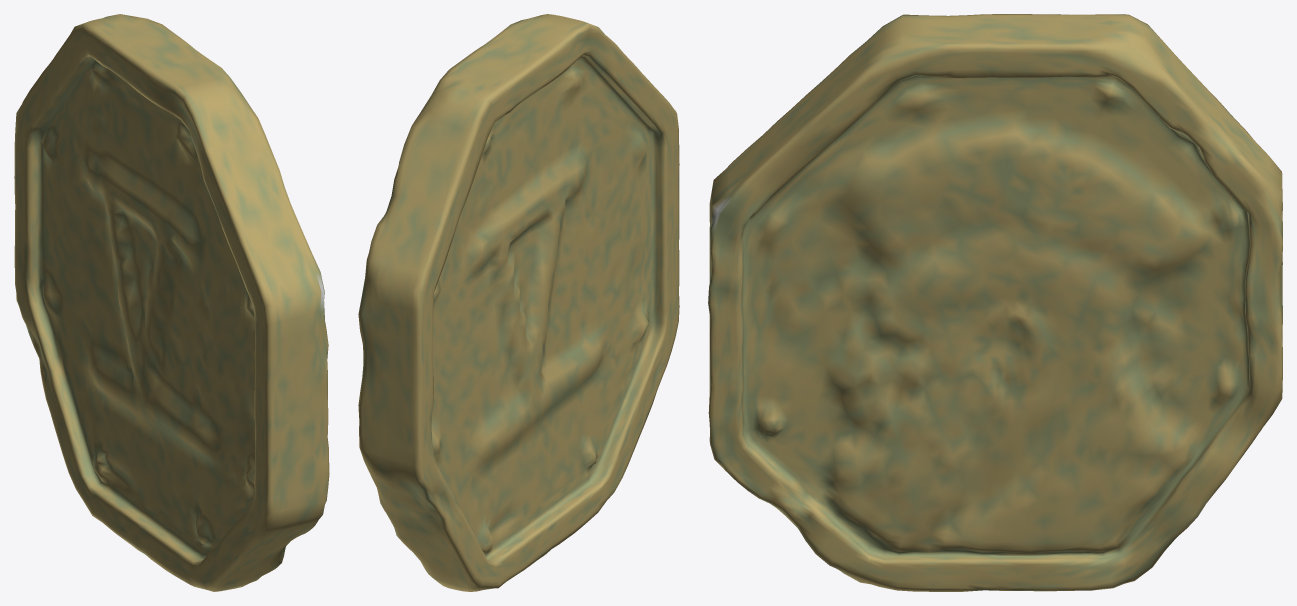
The model's file is Dwarf_Coin_Low.fbx.
3 renders of one model, left to right at view 1: azimuth 30°, elevation 25°; view 2: azimuth 150°, elevation 25°; view 3: azimuth 270°, elevation 25°, orthographic. The views are drawn at different scales.
Parts seen in each view (by area): view 1: Dwarf_MME; view 2: Dwarf_MME; view 3: Dwarf_MME.
Boxes of the visible parts, x1=… form: Dwarf_MME: x1=14, y1=14, x2=329, y2=591; Dwarf_MME: x1=358, y1=14, x2=679, y2=591; Dwarf_MME: x1=708, y1=14, x2=1282, y2=591.
Bounding box in the file's own units: 0.3601 × 2.63 × 2.51.
